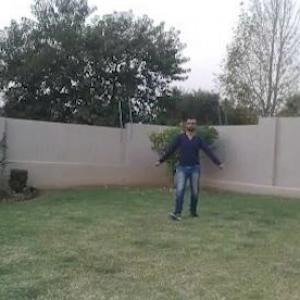land: (147, 101, 228, 232)
